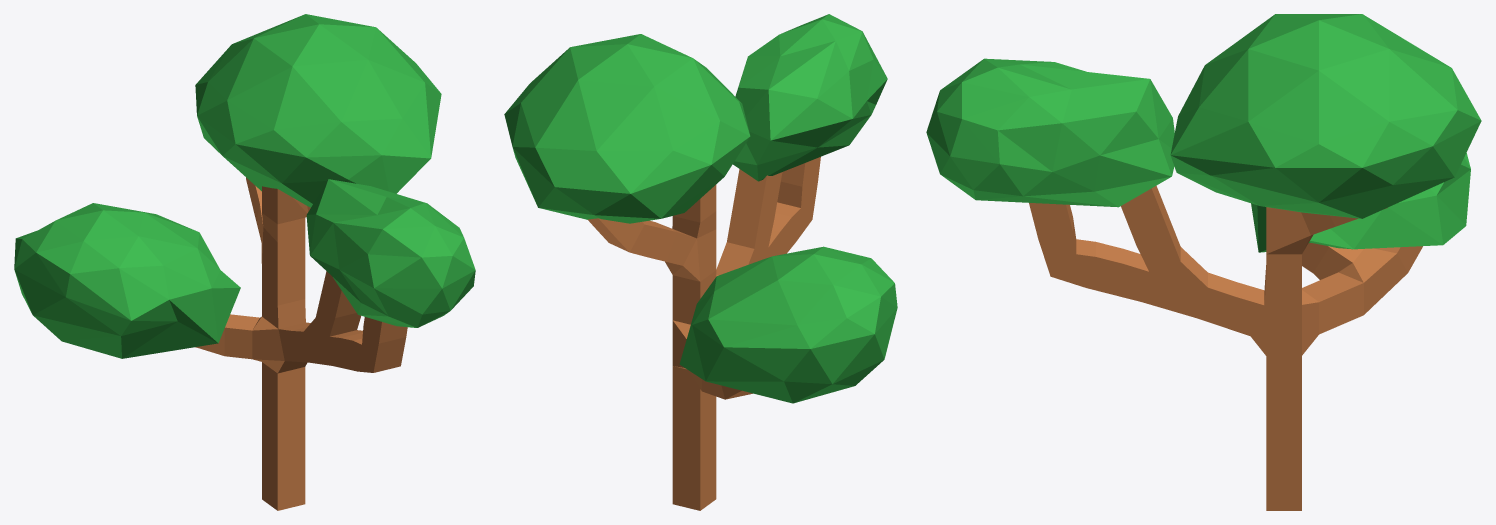
File: Tree.fbx
The picture shows the model from 3 angles, left to right: view 1: azimuth 30°, elevation 25°; view 2: azimuth 150°, elevation 25°; view 3: azimuth 270°, elevation 25°; orthographic projection. The views are drawn at different scales.
Visible parts, largest first — view 1: Vert; view 2: Vert; view 3: Vert.
Boxes of the visible parts, x1,y1,x2,y2 form: Vert: (14, 14, 475, 510); Vert: (504, 14, 897, 510); Vert: (926, 14, 1481, 510).
Size of the model in its own units: 778 by 690 by 790.
